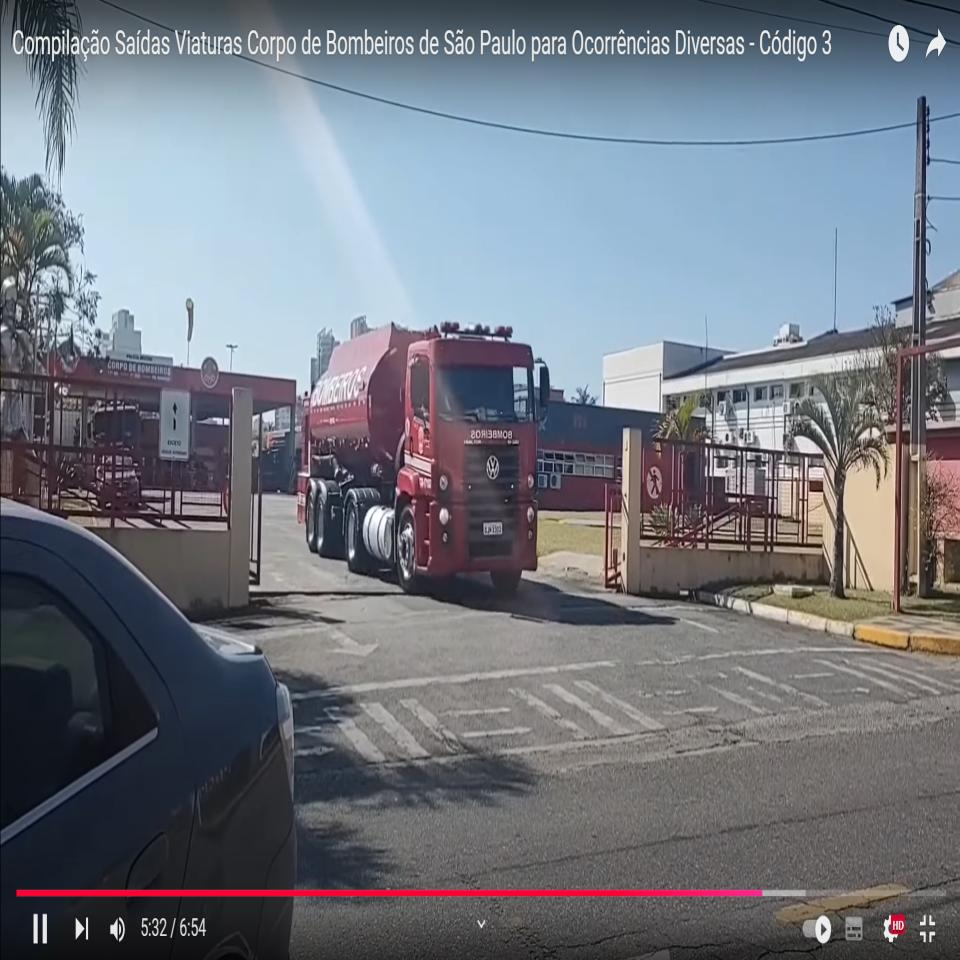viatura: (304, 319, 550, 591)
